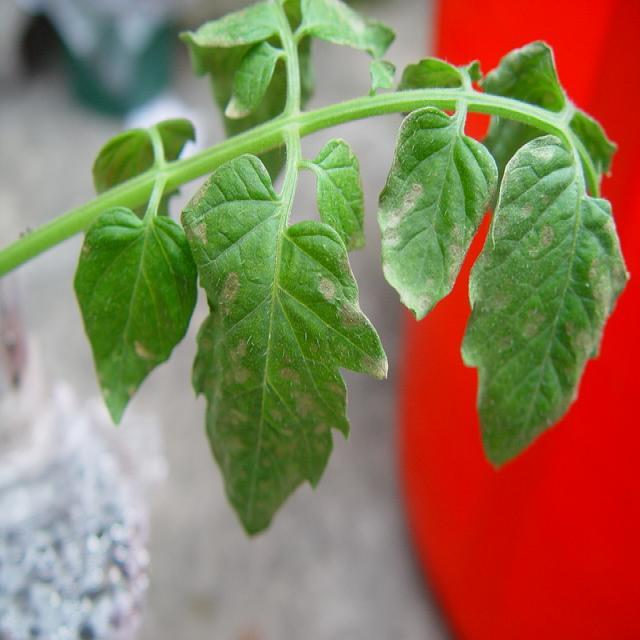Tomato mold leaf: (171, 153, 386, 542), (459, 138, 629, 474), (67, 210, 203, 428), (377, 109, 498, 323)
